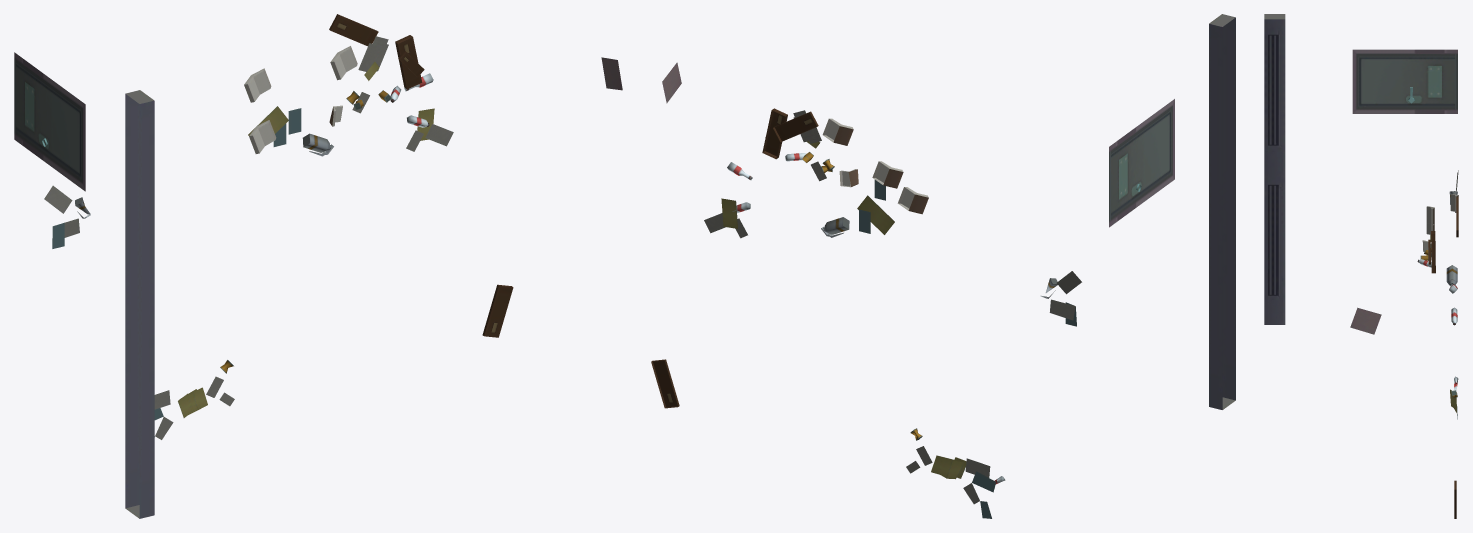
The model's file is Refuge_cddea96f__Refuge_diffuse_03_44e6eb95_c1f257.obj.
3 renders of one model, left to right at view 1: azimuth 30°, elevation 25°; view 2: azimuth 150°, elevation 25°; view 3: azimuth 270°, elevation 25°, orthographic. The views are drawn at different scales.
Size of the model in its own units: 11.42 by 9.7 by 4.82.
Materials: 1 (1 with a texture image).
